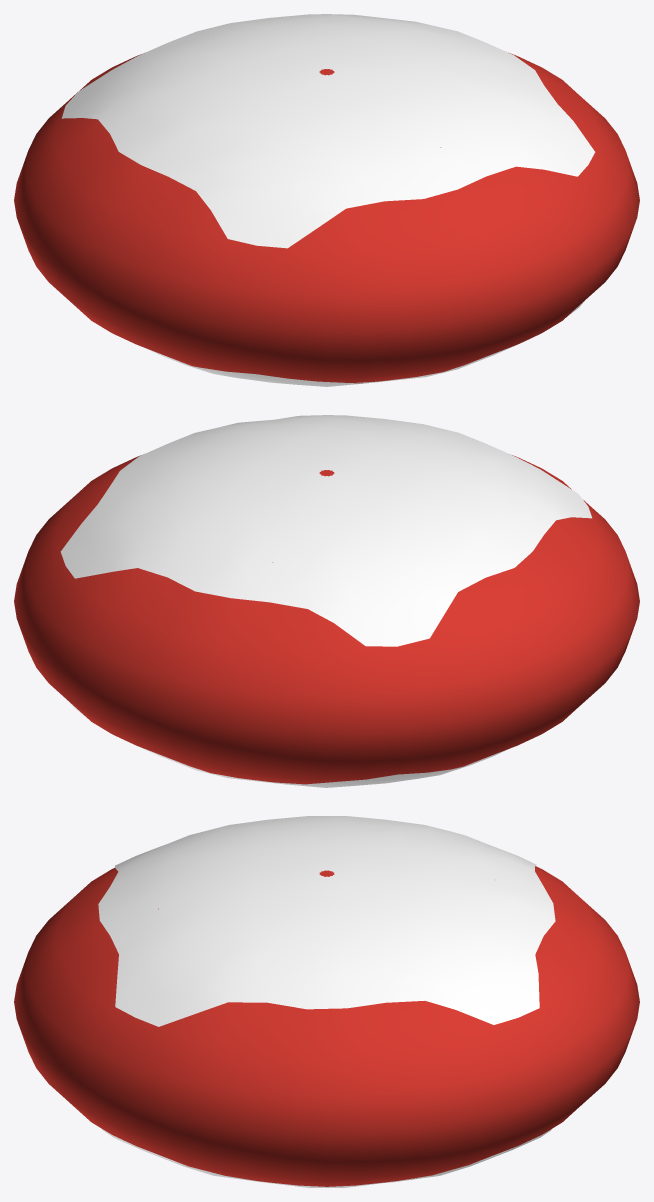
The model's file is yy巧克力_紅色.glb.
The picture shows the model from 3 angles, top to bottom: view 1: azimuth 30°, elevation 25°; view 2: azimuth 150°, elevation 25°; view 3: azimuth 270°, elevation 25°; orthographic projection.
Parts seen in each view (by area): view 1: Cube, y, y.001; view 2: Cube, y, y.001; view 3: Cube, y, y.001.
Boxes of the visible parts, bbox=[...] form: Cube: bbox=[14, 52, 639, 383]; y: bbox=[61, 14, 595, 248]; y.001: bbox=[146, 301, 584, 386]; Cube: bbox=[14, 455, 639, 784]; y: bbox=[60, 415, 591, 646]; y.001: bbox=[68, 701, 507, 787]; Cube: bbox=[14, 866, 639, 1186]; y: bbox=[98, 816, 555, 1026]; y.001: bbox=[102, 1129, 551, 1187].
Size of the model in its own units: 3.39 by 1.54 by 3.39.
Materials: 2 (1 with a texture image).
